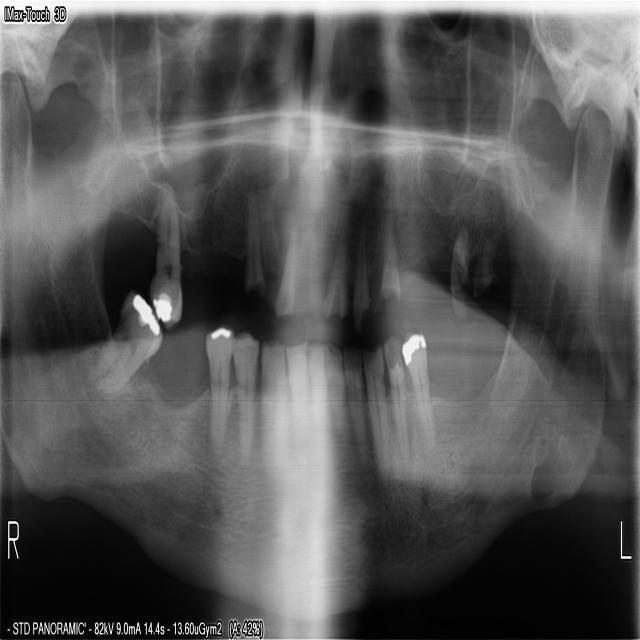LCD: (359, 337, 391, 473)
LCU: (377, 195, 403, 306)
LID: (340, 341, 369, 469), (321, 332, 348, 440)
LIU: (318, 215, 348, 325), (351, 218, 370, 332)
LPMD: (399, 320, 438, 452), (381, 329, 412, 473)
RCD: (257, 332, 287, 473)
RID: (282, 338, 315, 462), (305, 331, 332, 443)
RIU: (274, 226, 299, 323)
RMD: (84, 284, 162, 406)
RMU: (148, 176, 183, 330)
RPMD: (201, 317, 236, 466), (228, 322, 258, 472)
RPMU: (241, 187, 264, 293)
